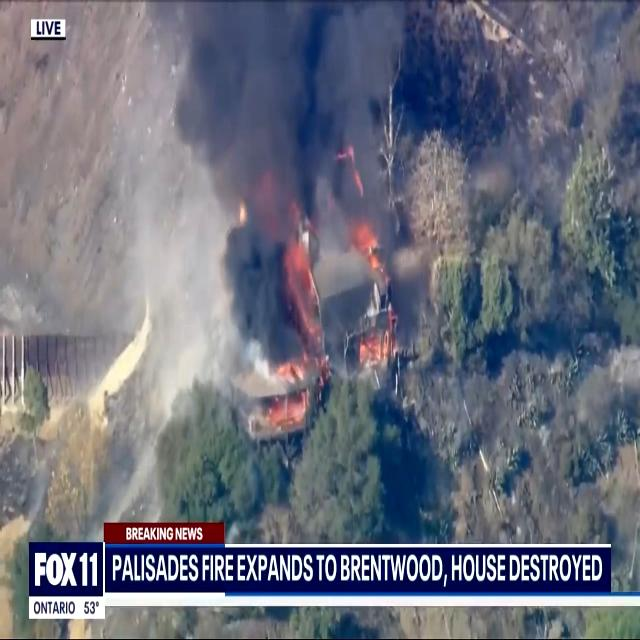Smoke: (181, 1, 413, 353)
